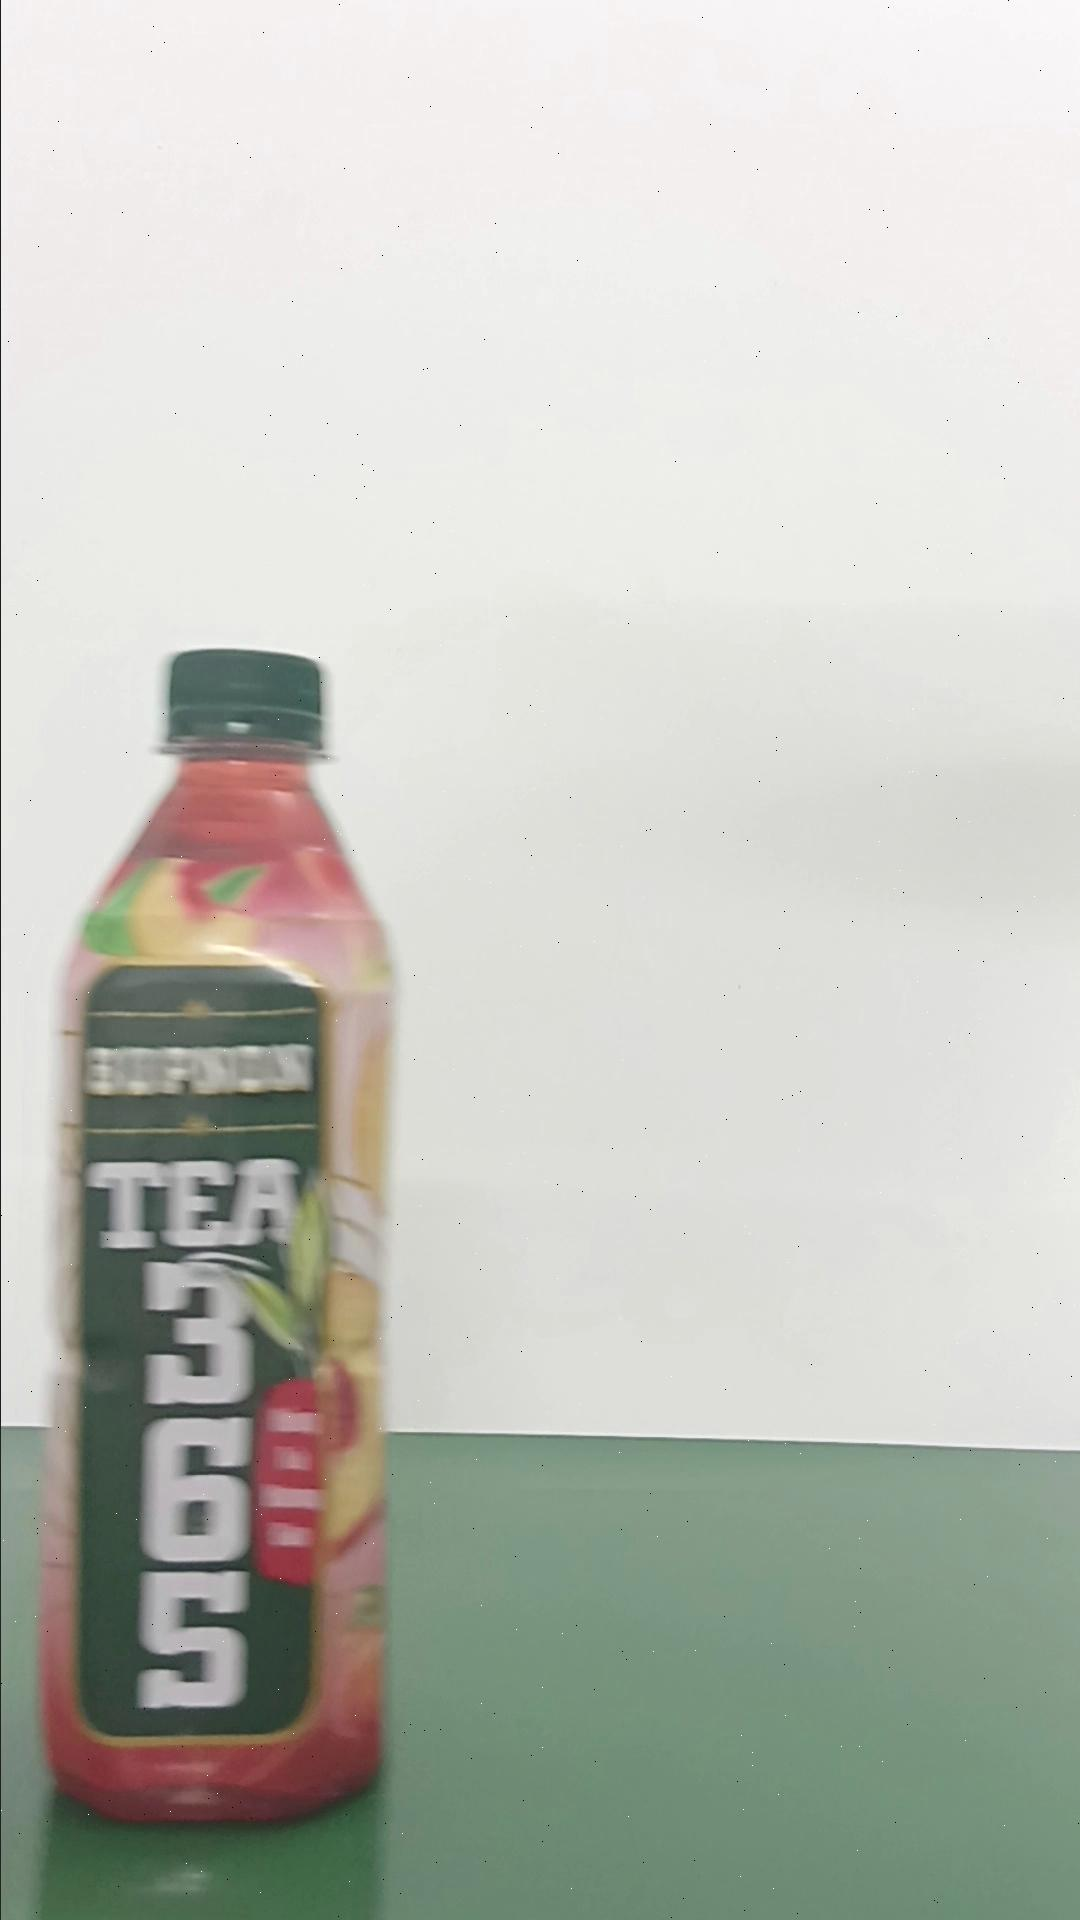khong loi: (44, 634, 406, 1824)
